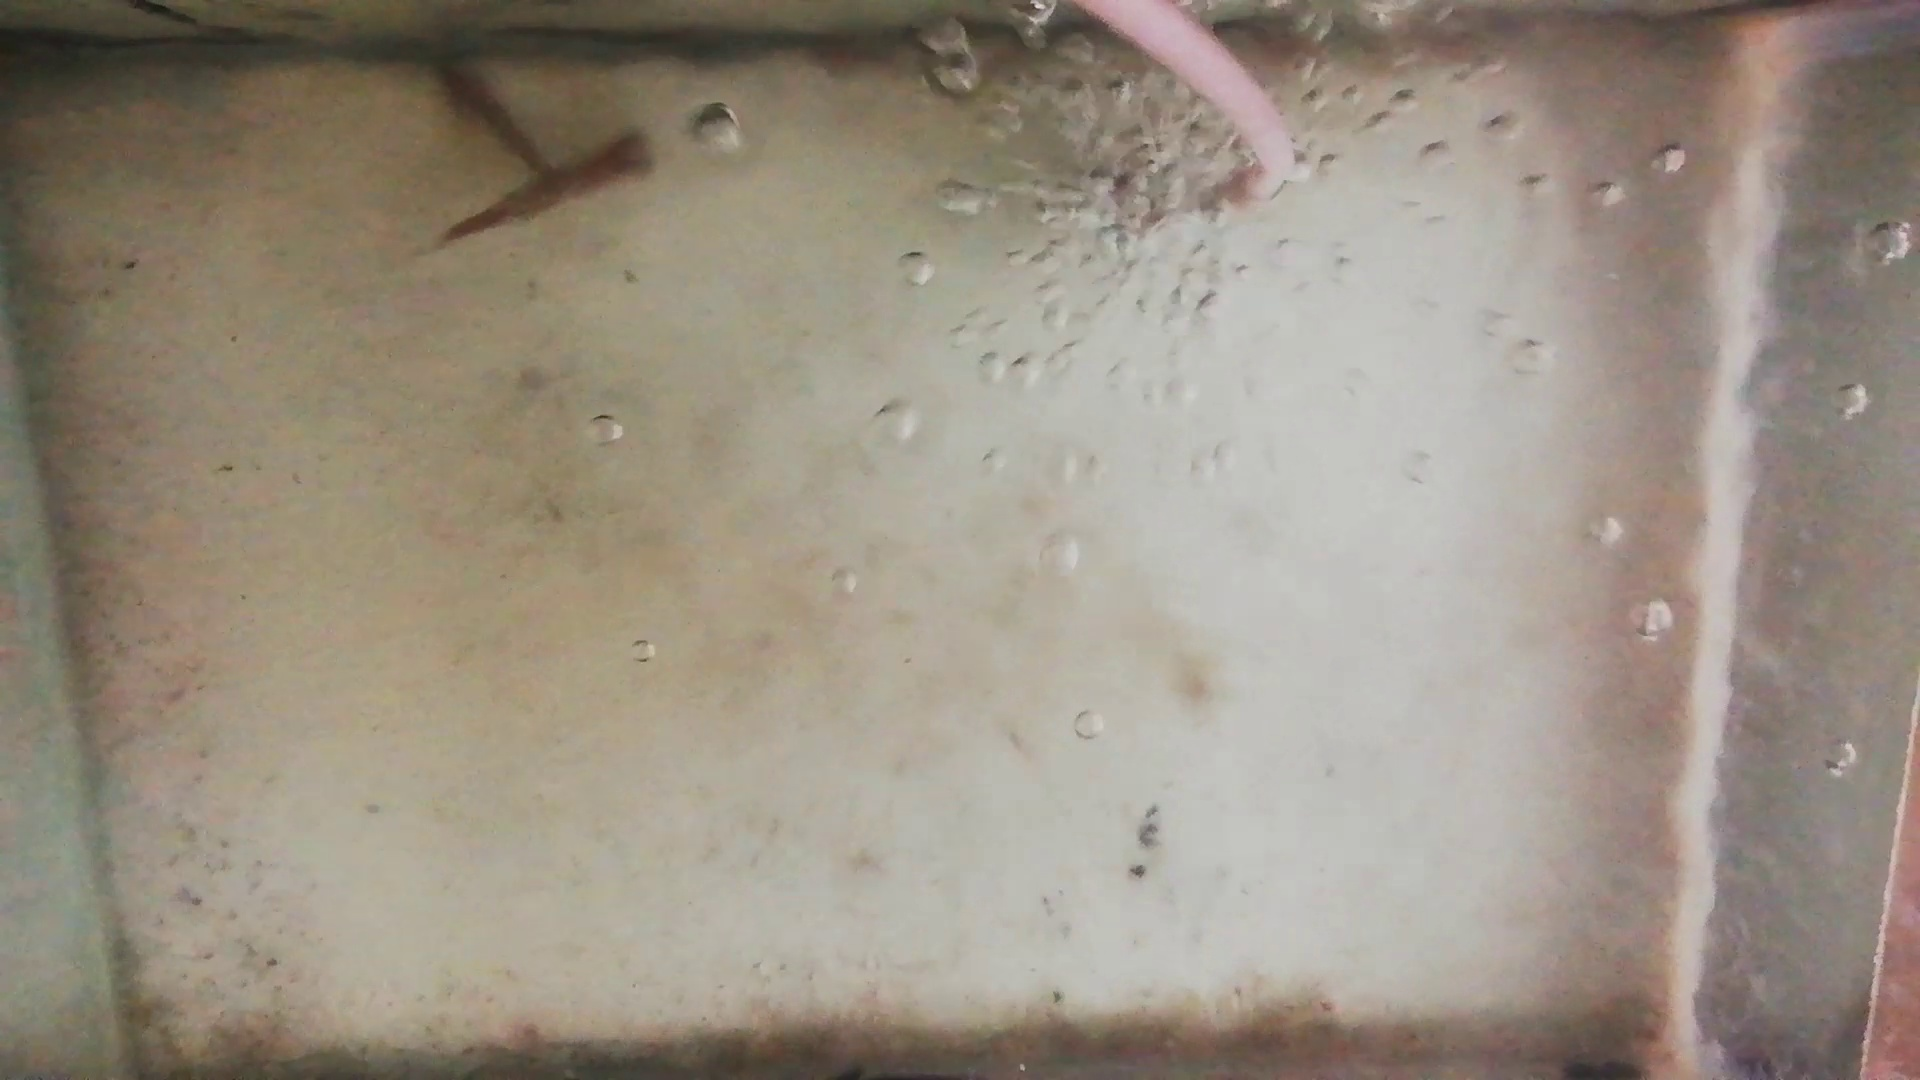fish: (438, 129, 655, 245), (431, 59, 545, 170)
